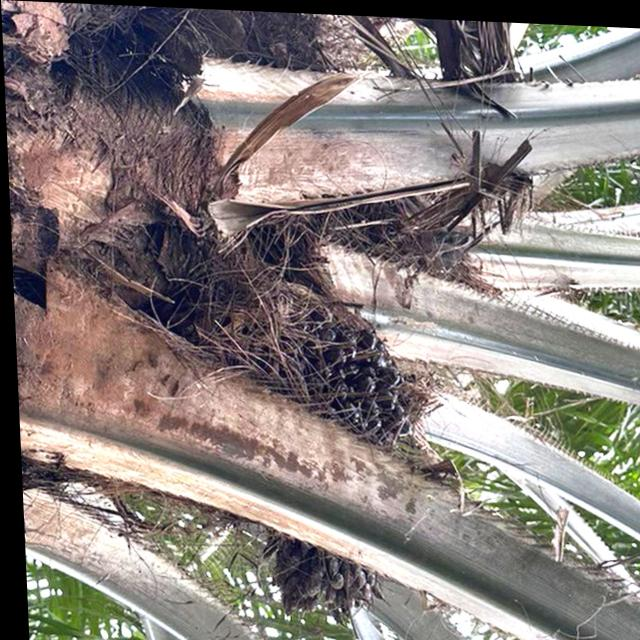almost: (201, 254, 419, 444), (257, 525, 383, 630)
